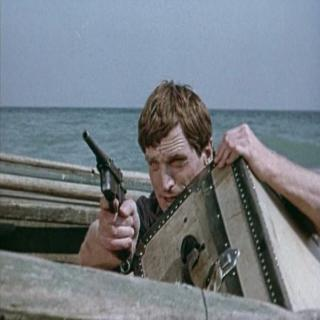gun: (80, 128, 135, 277)
